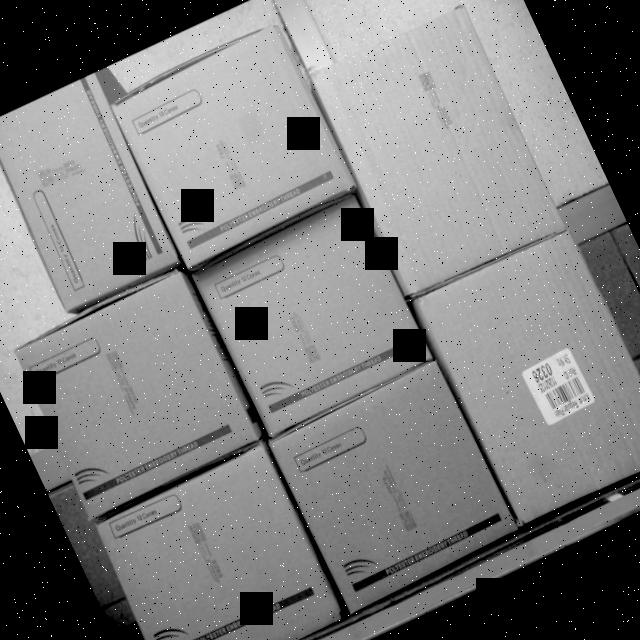box: (302, 0, 567, 293), (418, 226, 640, 529), (11, 270, 262, 523), (110, 18, 356, 264), (271, 364, 516, 610), (192, 198, 437, 442), (92, 448, 346, 640), (0, 73, 178, 308)
